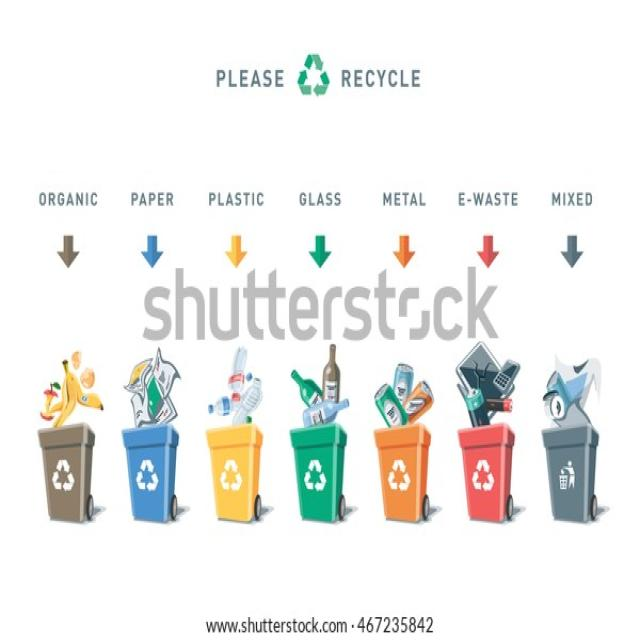glass: (292, 349, 348, 425)
metal: (459, 343, 515, 420), (543, 361, 597, 431), (379, 366, 432, 431)
paper: (124, 362, 183, 423)
plastic: (223, 352, 257, 430)
trash: (33, 358, 99, 425)
